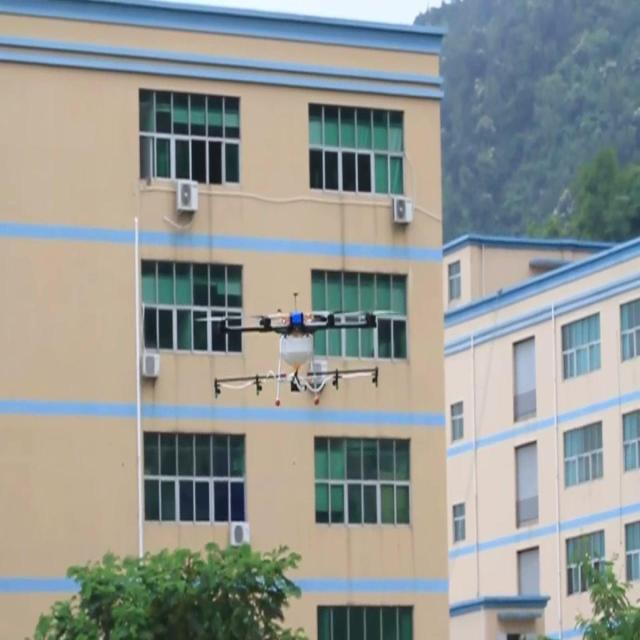drone: (204, 286, 380, 410)
